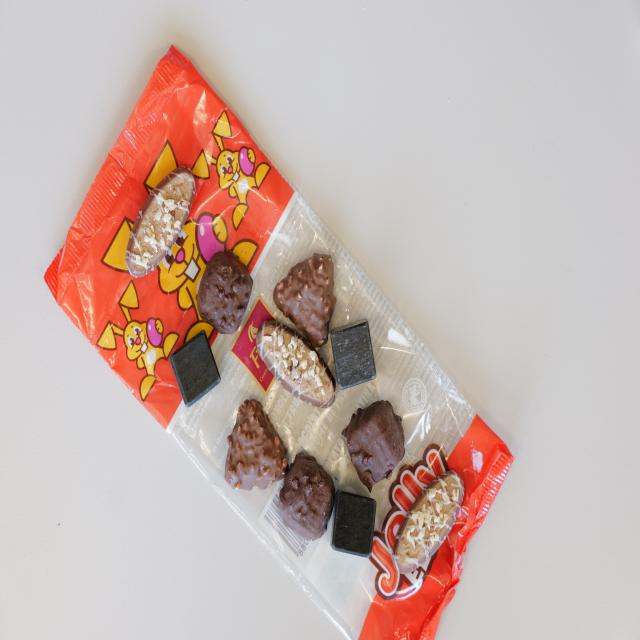Amandina: (124, 168, 196, 284), (392, 470, 464, 578), (254, 317, 338, 408)
Noir_authentique: (342, 398, 408, 489), (274, 450, 338, 540), (200, 246, 254, 336)
Triangolo: (221, 395, 292, 501), (271, 246, 339, 350)
